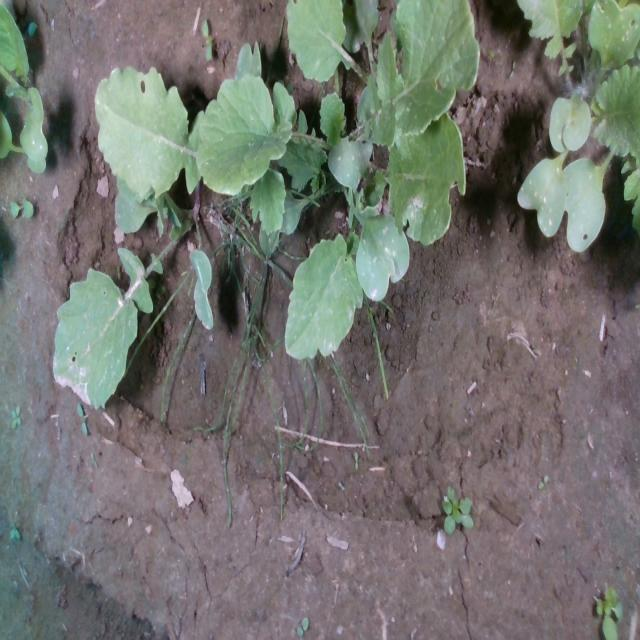weed: (200, 17, 212, 61), (8, 197, 34, 217), (77, 402, 87, 436), (8, 516, 20, 540), (10, 402, 21, 428), (296, 615, 308, 637), (538, 472, 548, 489), (353, 448, 358, 470)
